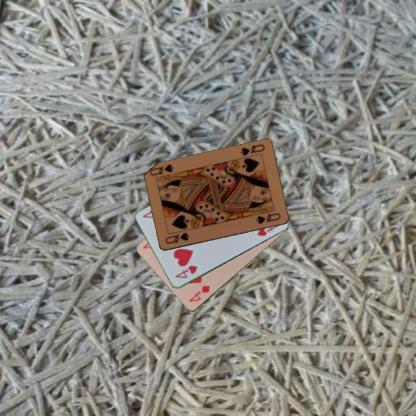4d: (187, 283, 211, 303)
4h: (173, 263, 199, 280)
Qs: (162, 230, 191, 246), (237, 142, 266, 158)
